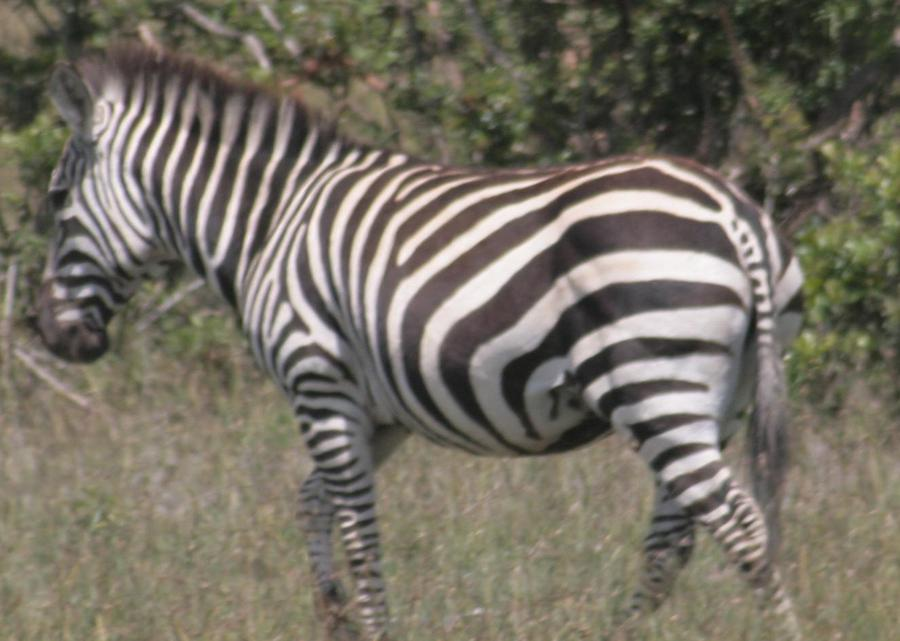zebra_plains: (232, 111, 778, 506)
